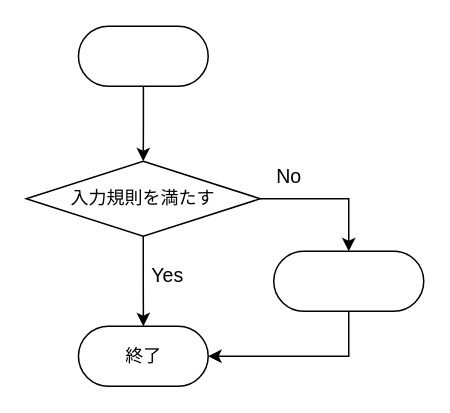
Image size: 450x413. Some labels were removed from this diagram. The shapes that lost their labels are listed below. From the top down, each one's centre as x and y in pixels, then its label:
the point at 142,55: 呼び出し
the point at 348,280: エラーコード生成
